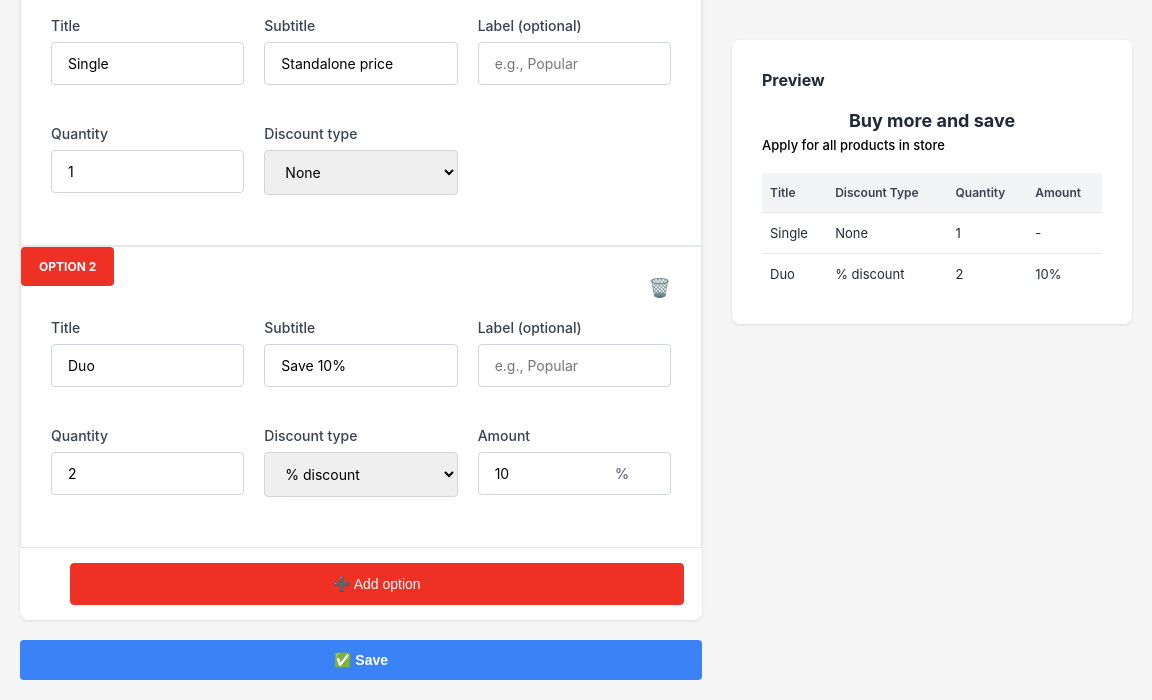
Test: VolumeDiscountForm Component › Form Submission › shows error message when network error occurs
(page scrolled)
Click the button "✅ Save" at [361, 660], box [20,640,702,680]
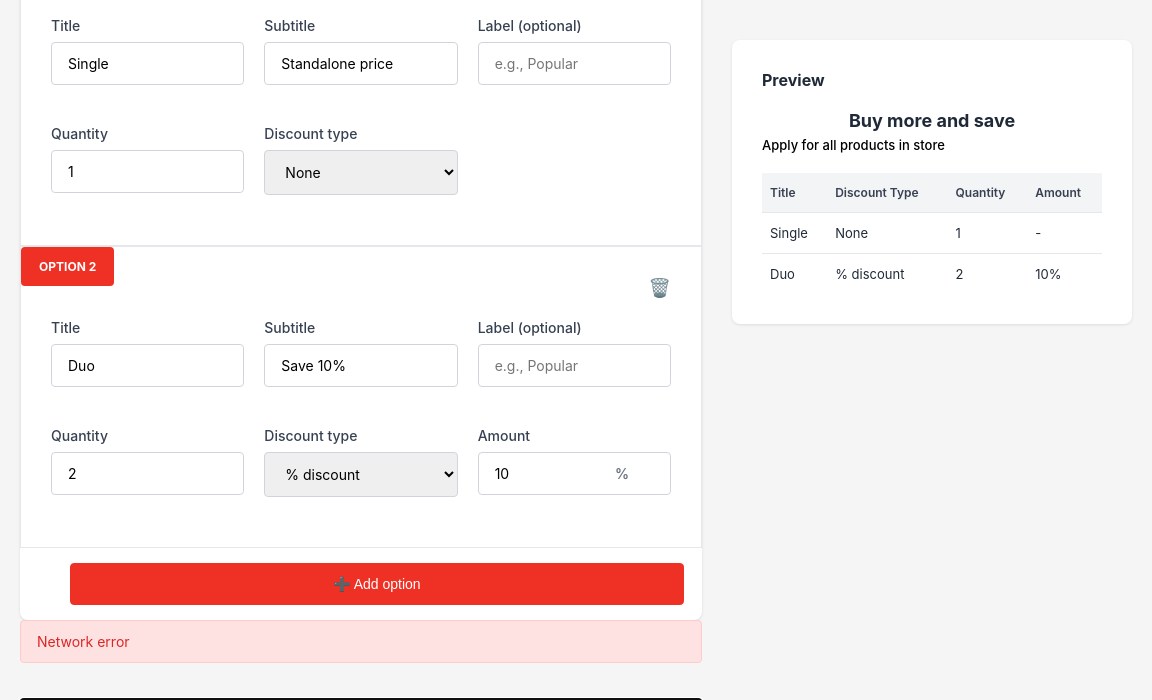
Check: the text "Network error" is shown, box [20,620,702,663]
